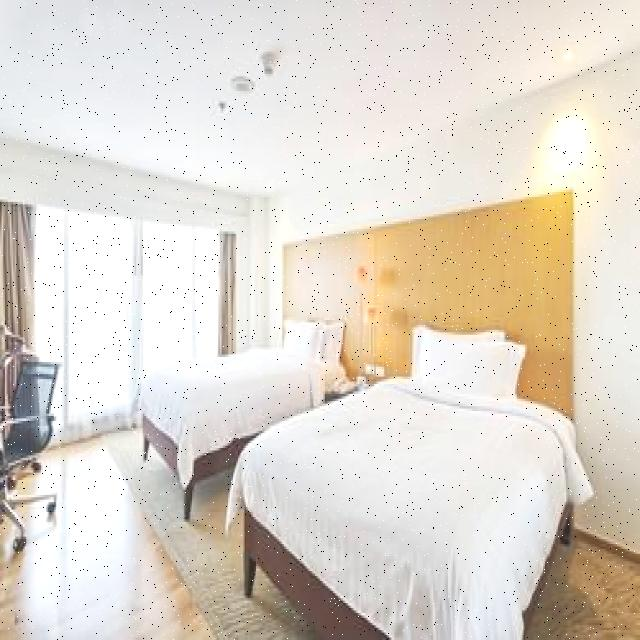bed: (237, 321, 590, 623), (138, 305, 343, 439)
